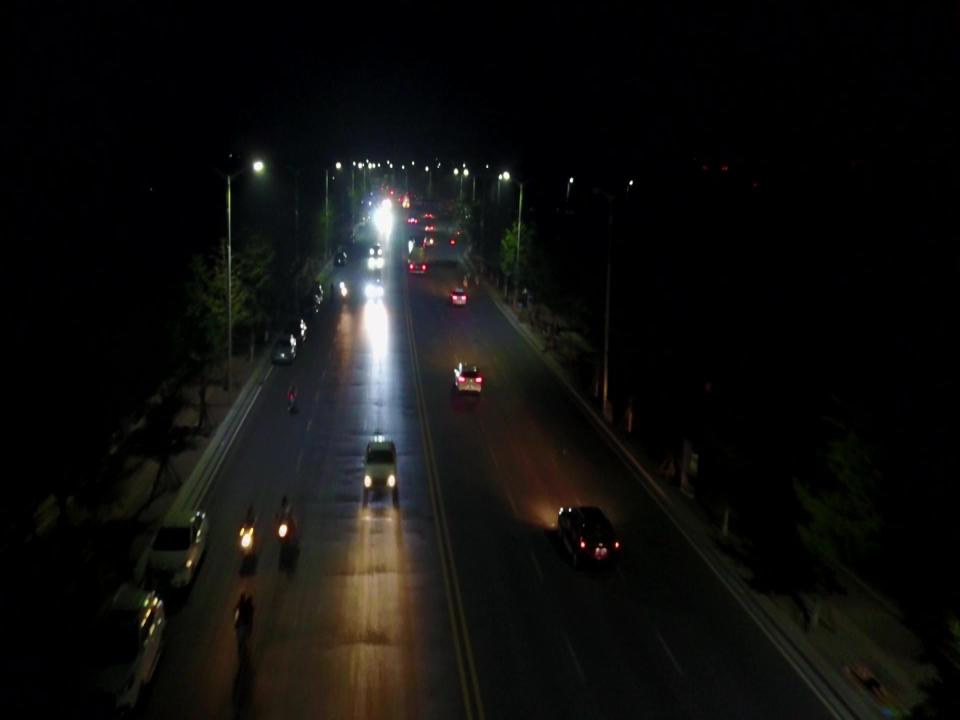car: (63, 584, 168, 714), (144, 509, 210, 591), (557, 505, 621, 573), (363, 434, 397, 491), (452, 361, 484, 395), (270, 333, 298, 365), (283, 318, 308, 345), (300, 293, 320, 317), (368, 278, 382, 299), (450, 288, 466, 306), (309, 284, 323, 303), (333, 251, 347, 267), (412, 237, 425, 252), (369, 257, 382, 271), (407, 211, 419, 226), (370, 242, 382, 257), (423, 236, 434, 247), (424, 223, 434, 232), (424, 210, 432, 219)
truck: (408, 246, 428, 274)
